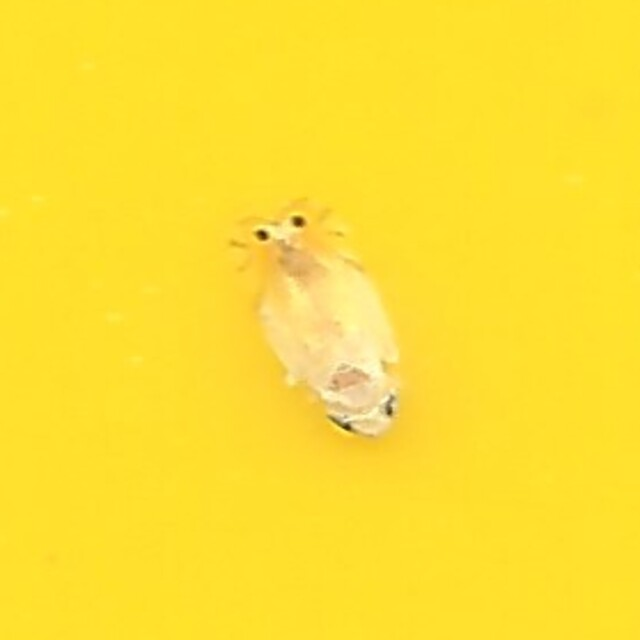Hemiptera: (229, 199, 411, 441)
